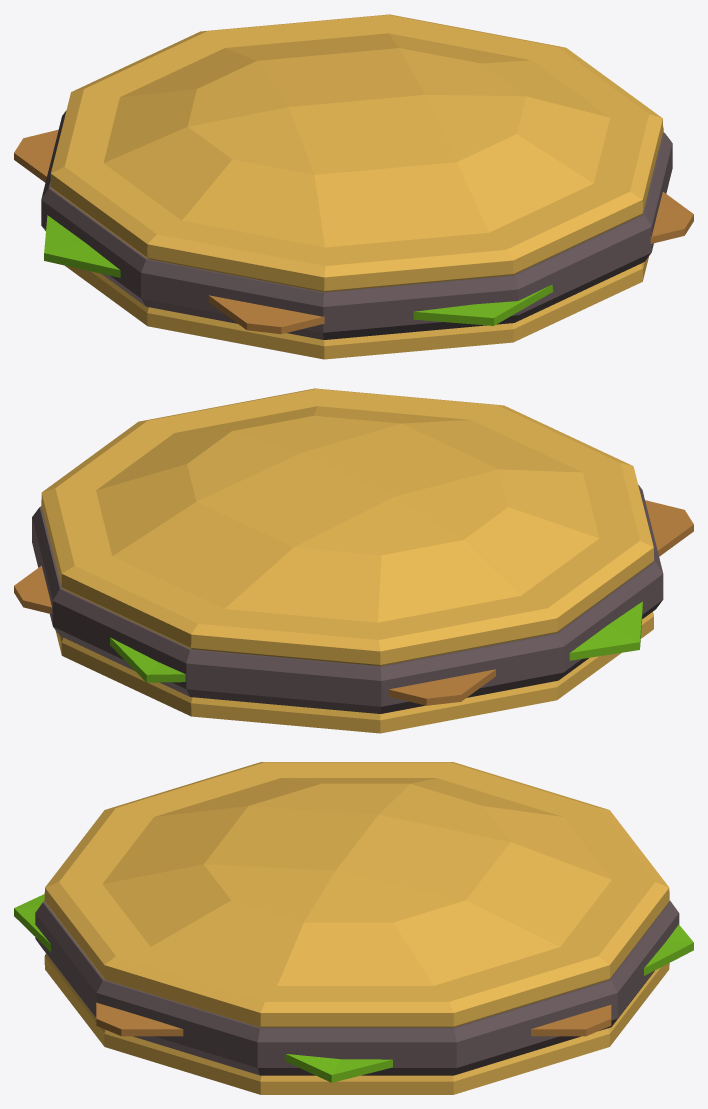
Rendered from BurgerCentral.fbx.
3 renders of one model, top to bottom at view 1: azimuth 30°, elevation 25°; view 2: azimuth 150°, elevation 25°; view 3: azimuth 270°, elevation 25°, orthographic.
Parts seen in each view (by area): view 1: UpperBun, LowerBun, Patty, Cheese, Lettuce; view 2: UpperBun, LowerBun, Patty, Cheese, Lettuce; view 3: UpperBun, LowerBun, Patty, Lettuce, Cheese.
Part boxes in pixels (x1,y1,x2,y2): UpperBun: [65, 33, 648, 359]; LowerBun: [50, 14, 663, 292]; Patty: [41, 110, 672, 339]; Cheese: [14, 129, 693, 334]; Lettuce: [44, 128, 663, 325]; UpperBun: [55, 406, 653, 733]; LowerBun: [41, 388, 653, 666]; Patty: [32, 484, 663, 713]; Cheese: [14, 500, 693, 705]; Lettuce: [110, 601, 642, 682]; UpperBun: [44, 778, 669, 1094]; LowerBun: [44, 762, 669, 1027]; Patty: [35, 900, 679, 1075]; Lettuce: [14, 894, 693, 1082]; Cheese: [96, 1002, 611, 1036].
Size of the model in its own units: 214 by 48.19 by 211.
